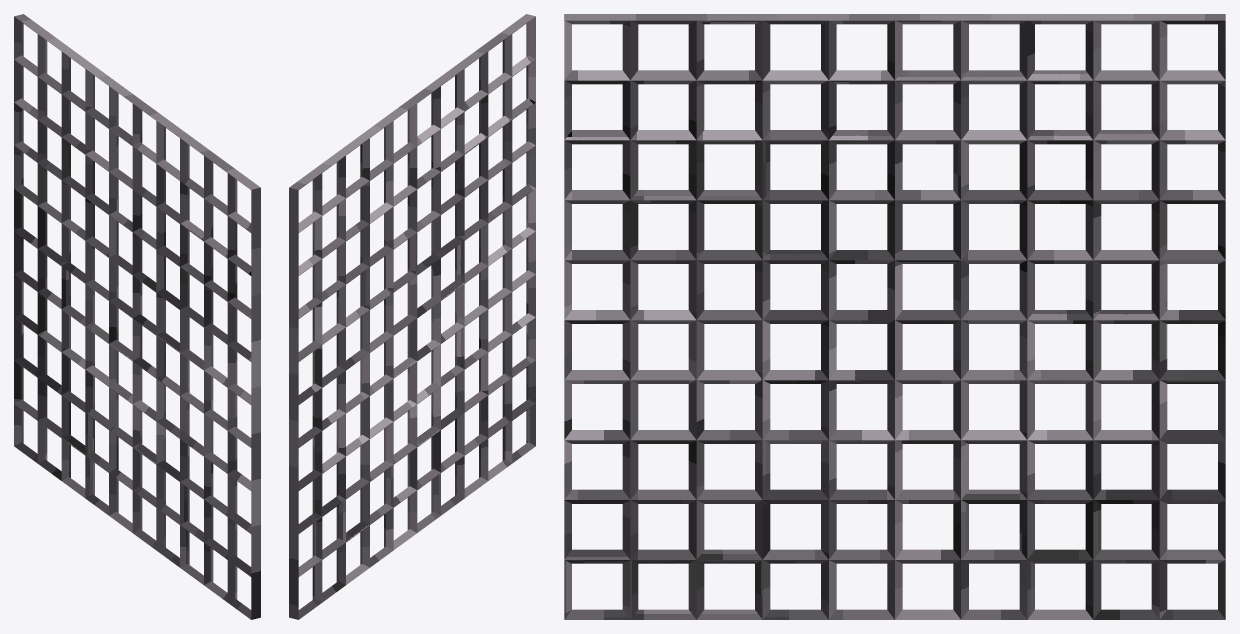
File: parmaklik.fbx
3 views of the same model, side by side, from view 1: azimuth 30°, elevation 25°; view 2: azimuth 150°, elevation 25°; view 3: azimuth 270°, elevation 25° (orthographic). The views are drawn at different scales.
Parts seen in each view (by area): view 1: parmaklık; view 2: parmaklık; view 3: parmaklık.
Boxes of the visible parts, x1,y1,x2,y2 form: parmaklık: [14, 14, 260, 619]; parmaklık: [289, 14, 535, 619]; parmaklık: [564, 14, 1225, 619].
Size of the model in its own units: 0.2641 by 11.24 by 11.24.
Materials: 1 (1 with a texture image).
